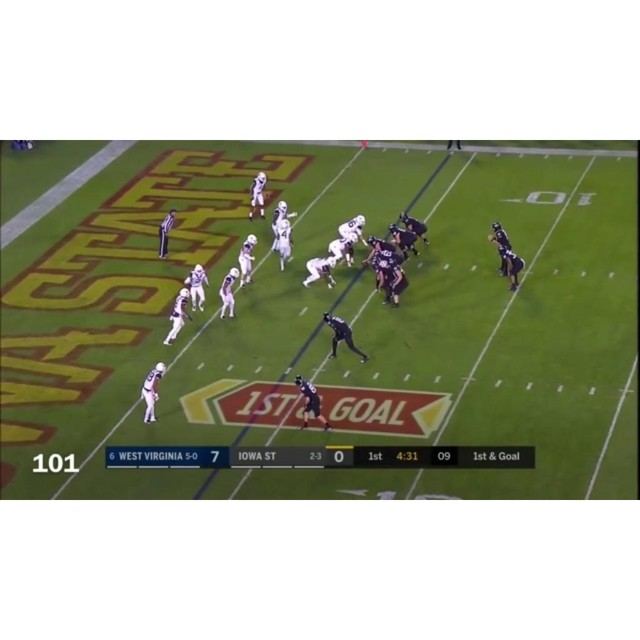american-football-player: (294, 373, 334, 434), (323, 312, 370, 363), (163, 287, 193, 346), (141, 362, 166, 424), (376, 259, 404, 308), (489, 221, 512, 276), (302, 256, 339, 290), (498, 246, 525, 292), (184, 263, 209, 312), (328, 231, 361, 268), (218, 268, 241, 320), (388, 223, 421, 259), (364, 235, 402, 266), (274, 218, 295, 272), (399, 212, 430, 246), (237, 234, 257, 286), (271, 200, 293, 244), (249, 171, 268, 221), (338, 214, 367, 243)
referee: (157, 207, 178, 259)
